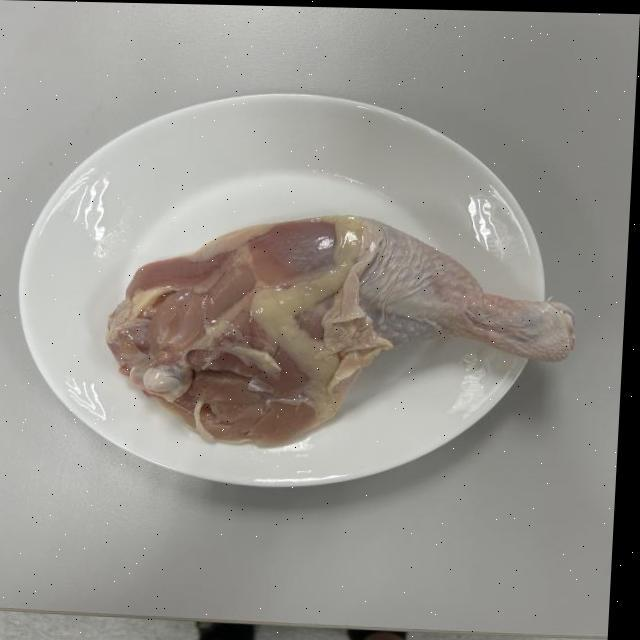wing: (107, 200, 602, 452)
